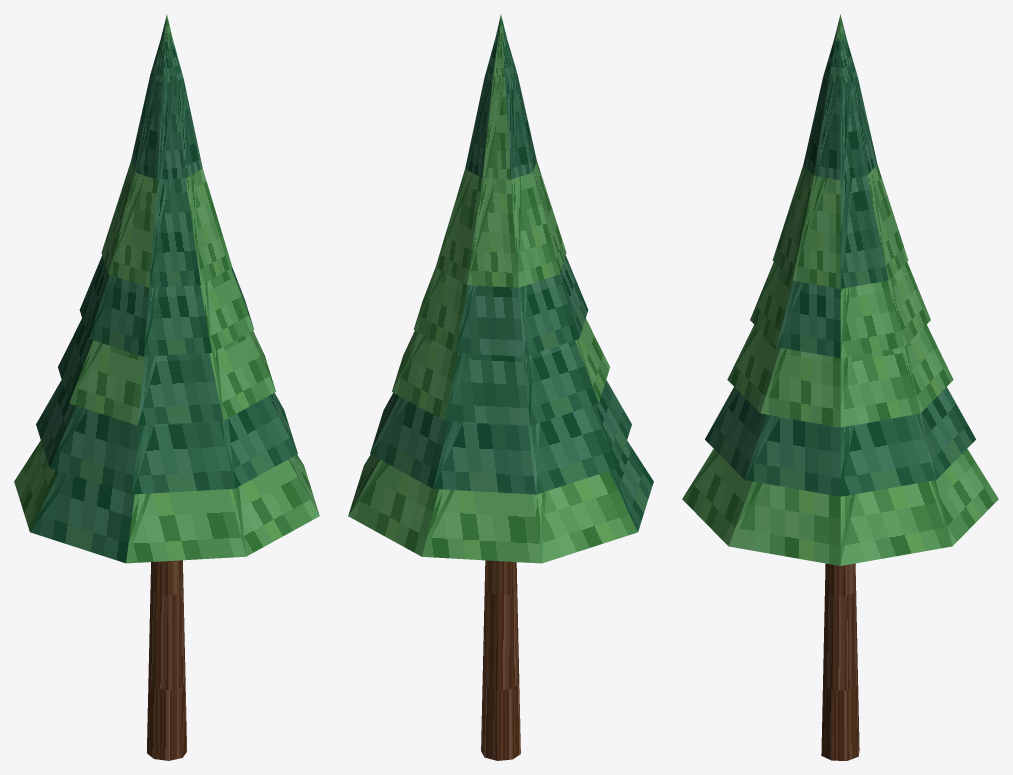
Rendered from 05_pino_delgado.glb.
The picture shows the model from 3 angles, left to right: view 1: azimuth 30°, elevation 25°; view 2: azimuth 150°, elevation 25°; view 3: azimuth 270°, elevation 25°; orthographic projection.
Visible parts, largest first — view 1: world; view 2: world; view 3: world.
Part boxes in pixels (x1,y1,x2,y2): world: [14, 15, 319, 760]; world: [348, 15, 653, 760]; world: [682, 14, 998, 760].
Bounding box in the file's own units: 18.65 × 48 × 18.65.
Materials: 1 (1 with a texture image).
